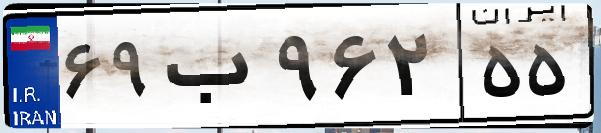2: (385, 28, 445, 110)
5: (475, 38, 525, 113), (525, 38, 570, 115)
6: (330, 28, 385, 110), (57, 26, 110, 100)
9: (270, 28, 330, 110), (110, 28, 158, 98)
ب: (158, 20, 270, 120)
